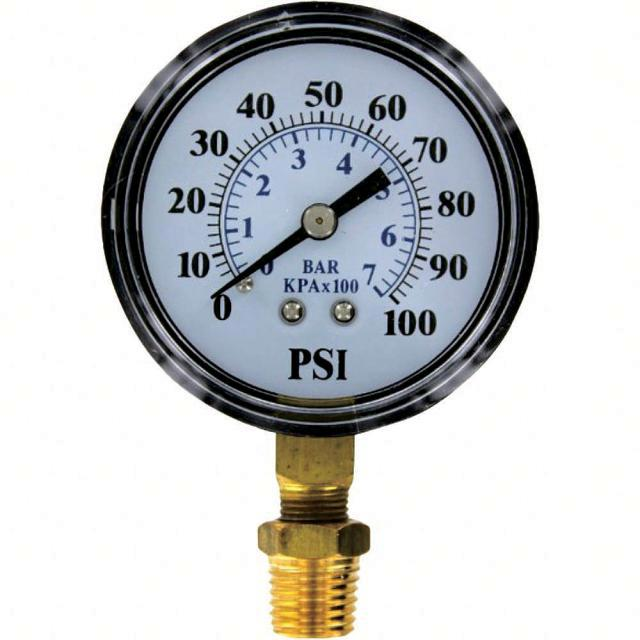Needle_Tip: (188, 271, 245, 313)
Needle_base: (290, 193, 355, 257)
max_value: (362, 284, 456, 357)
min_value: (205, 284, 250, 340)
